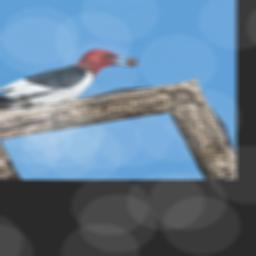Woodpecker: (0, 22, 145, 142)
